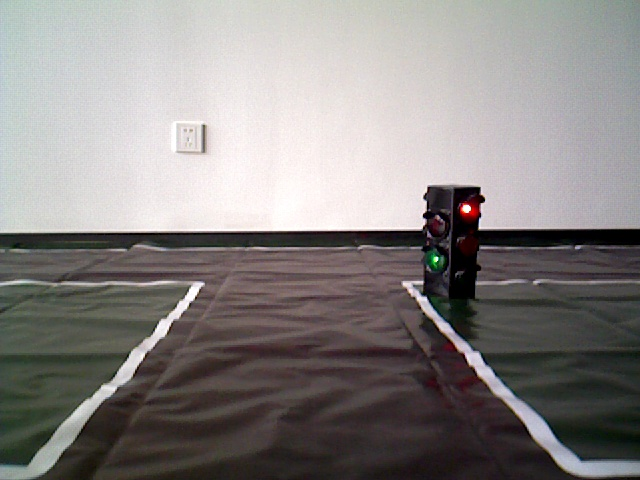red: (424, 183, 478, 295)
